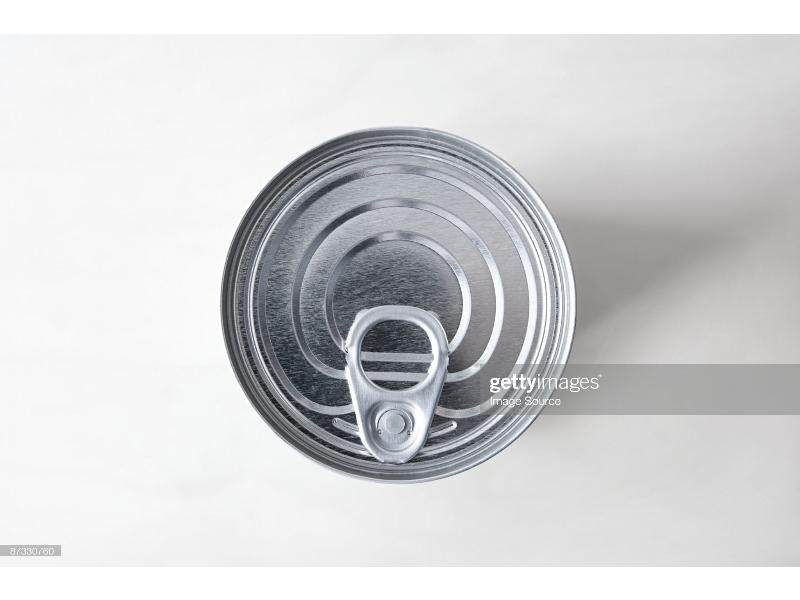can: (215, 117, 579, 496)
